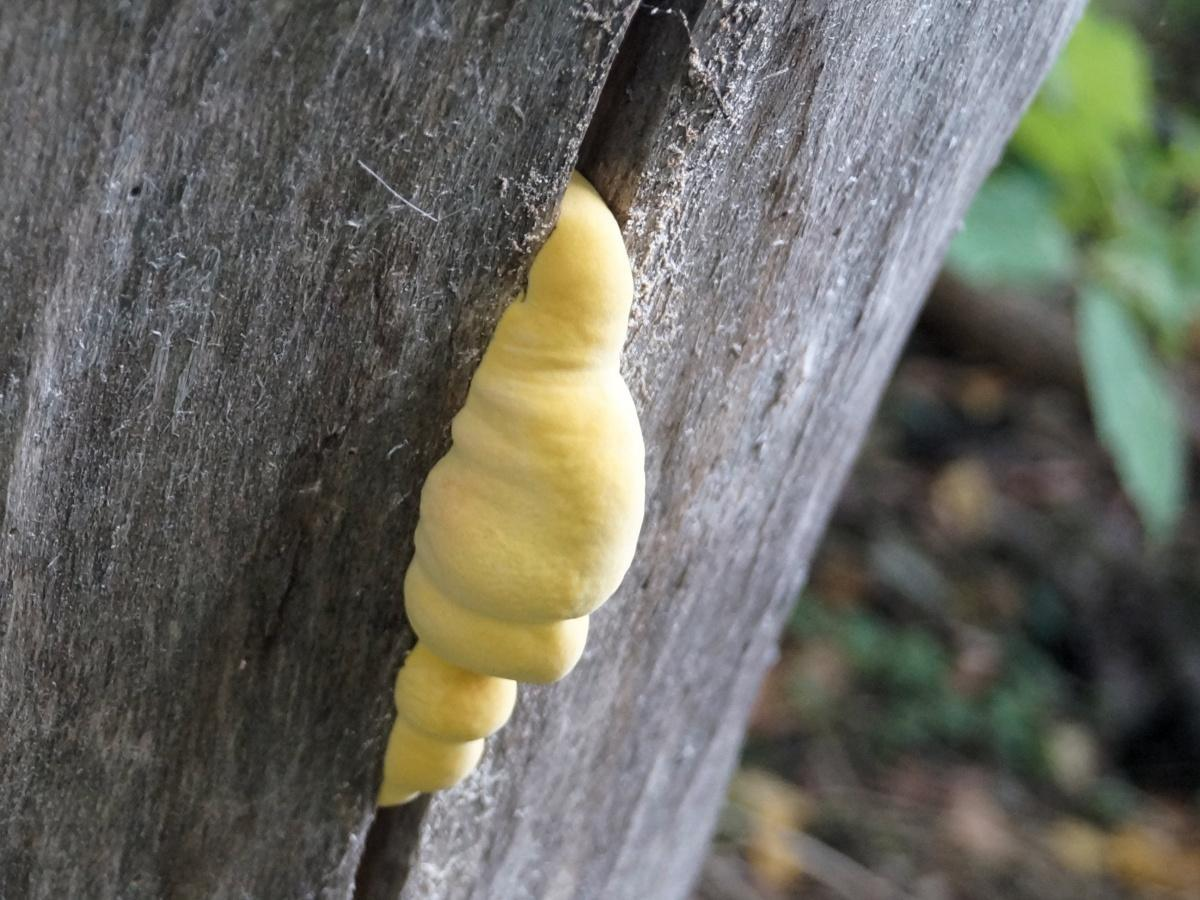Sulphur-yellow tinder fungus: (379, 173, 643, 804)
